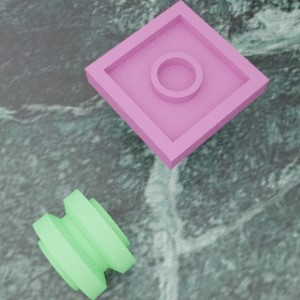lego: (84, 0, 269, 170), (32, 189, 136, 299)
